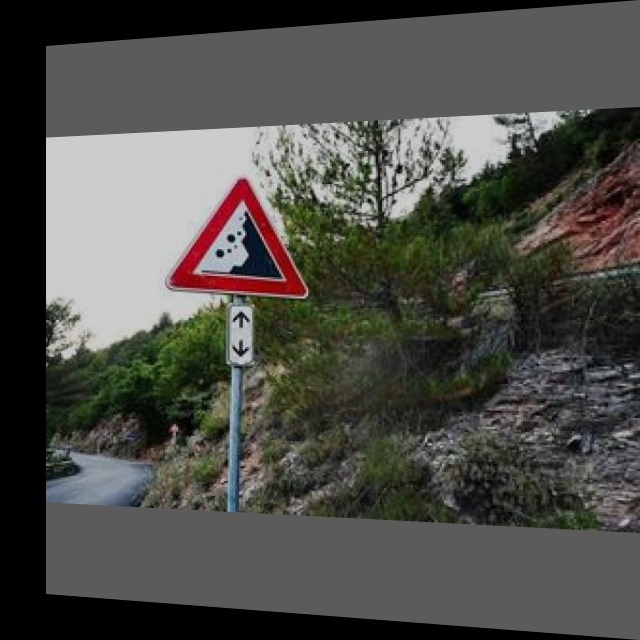Falling_Rocks: (159, 176, 314, 297)
